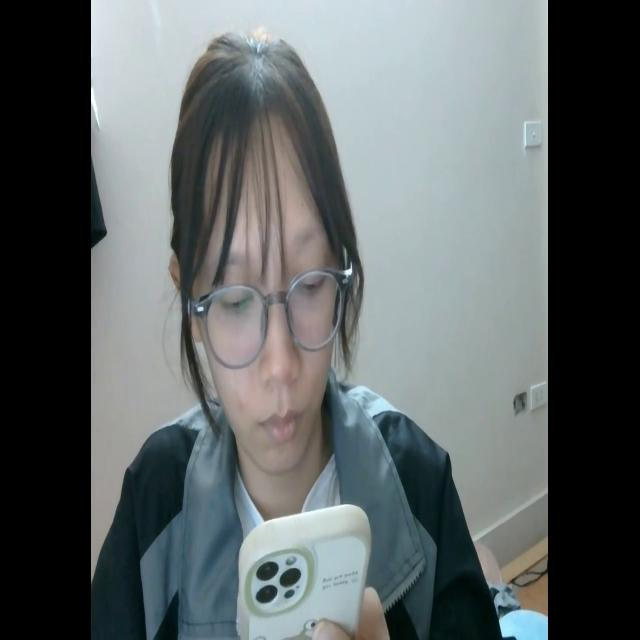phone: (236, 499, 373, 640)
student: (95, 26, 502, 640)
